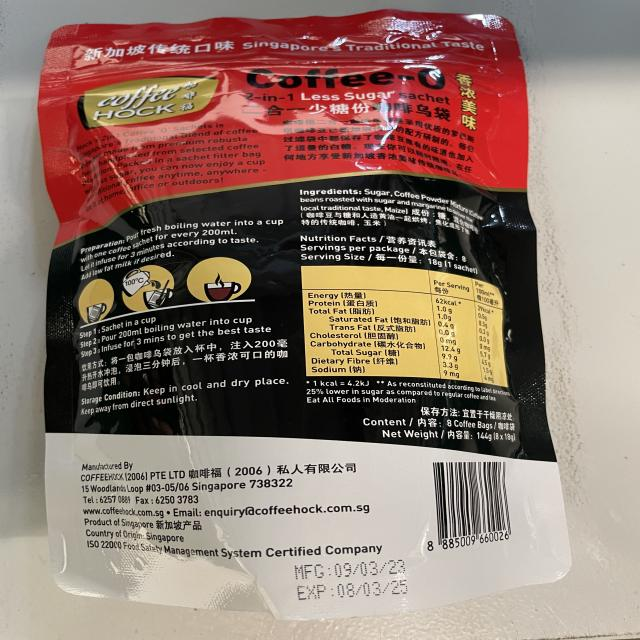object_name: (48, 31, 557, 592)
